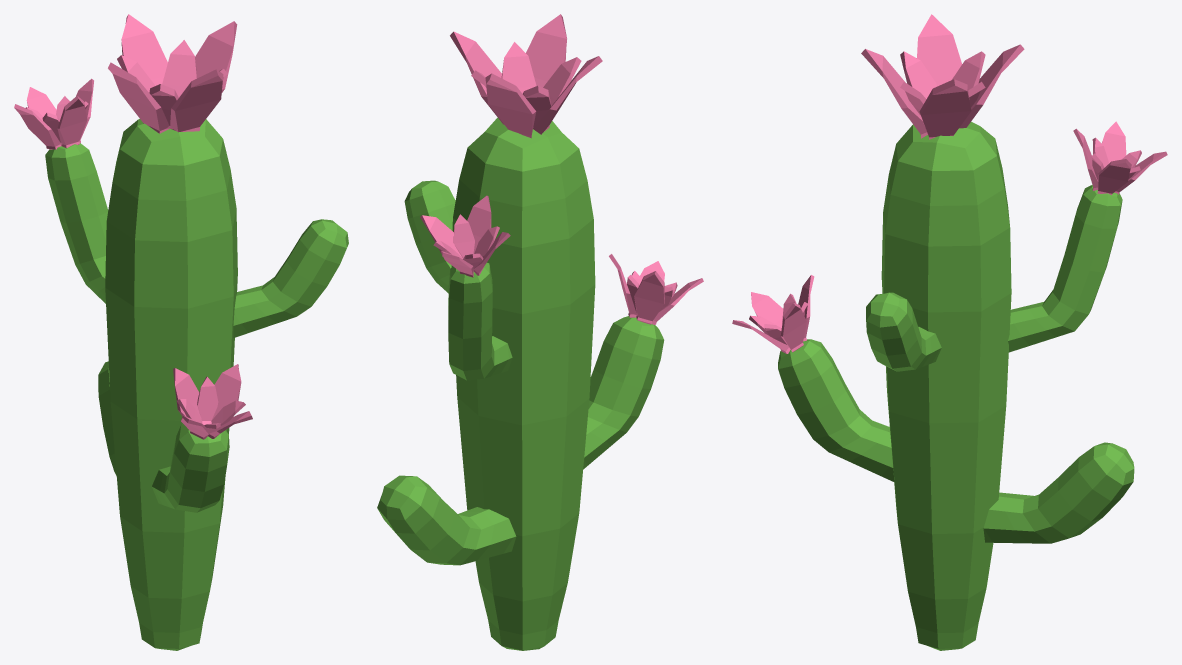
Rendered from nature-cactusflowers-2.glb.
3 views of the same model, side by side, from view 1: azimuth 30°, elevation 25°; view 2: azimuth 150°, elevation 25°; view 3: azimuth 270°, elevation 25° (orthographic).
Parts seen in each view (by area): view 1: CactusFlowers_2; view 2: CactusFlowers_2; view 3: CactusFlowers_2.
Part boxes in pixels (box(x1,y1,x2,y2)): CactusFlowers_2: box(14, 14, 348, 650); CactusFlowers_2: box(377, 14, 703, 650); CactusFlowers_2: box(732, 14, 1167, 650).
Size of the model in its own units: 76.54 by 194 by 128.
